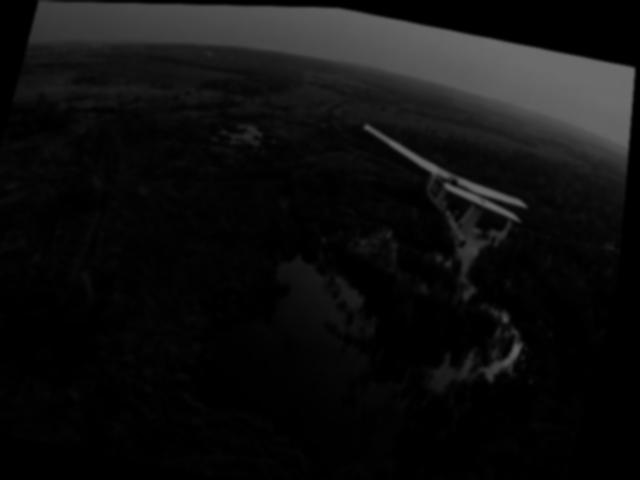hedef: (337, 111, 547, 272)
